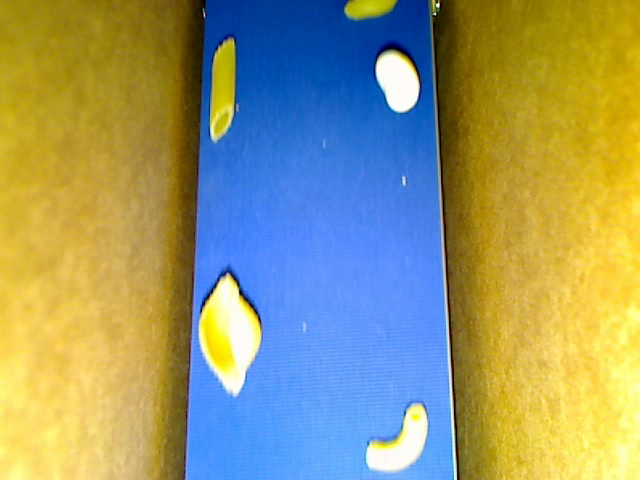elbow: (365, 402, 428, 471), (344, 1, 397, 19)
penne: (209, 38, 235, 142)
shell: (197, 272, 262, 397)
